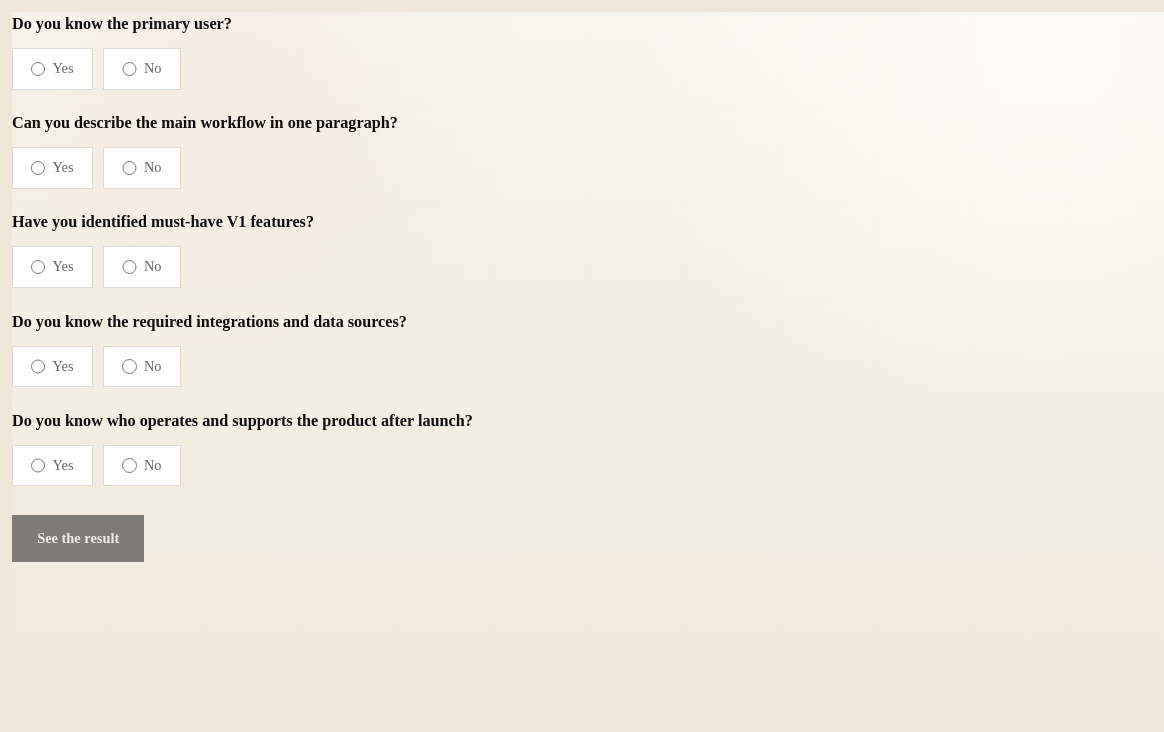
Test: ProjectReadinessTool › returns the clarify message for low scores
Step 1. Click the radio button labelled "No" below "Do you know the primary user?" → [130, 69], box left=122, top=62, right=137, bottom=76
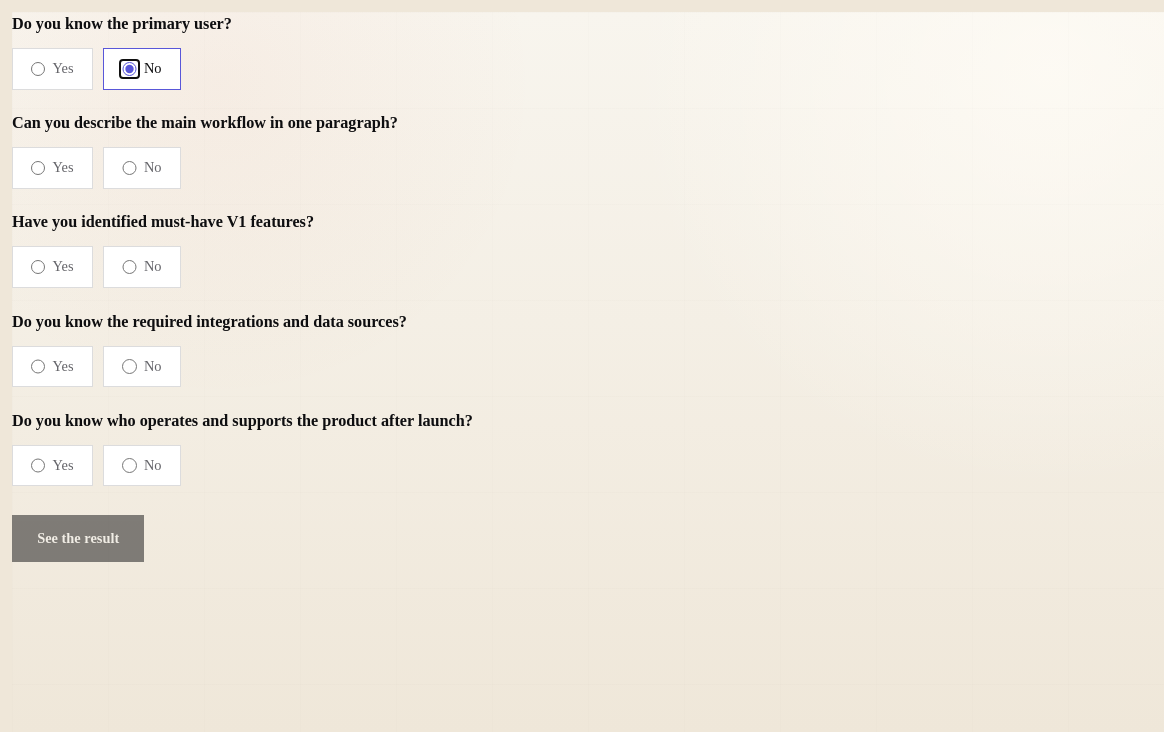
Step 2. Click the 2nd radio button labelled "No" → [130, 168], box left=122, top=161, right=137, bottom=175
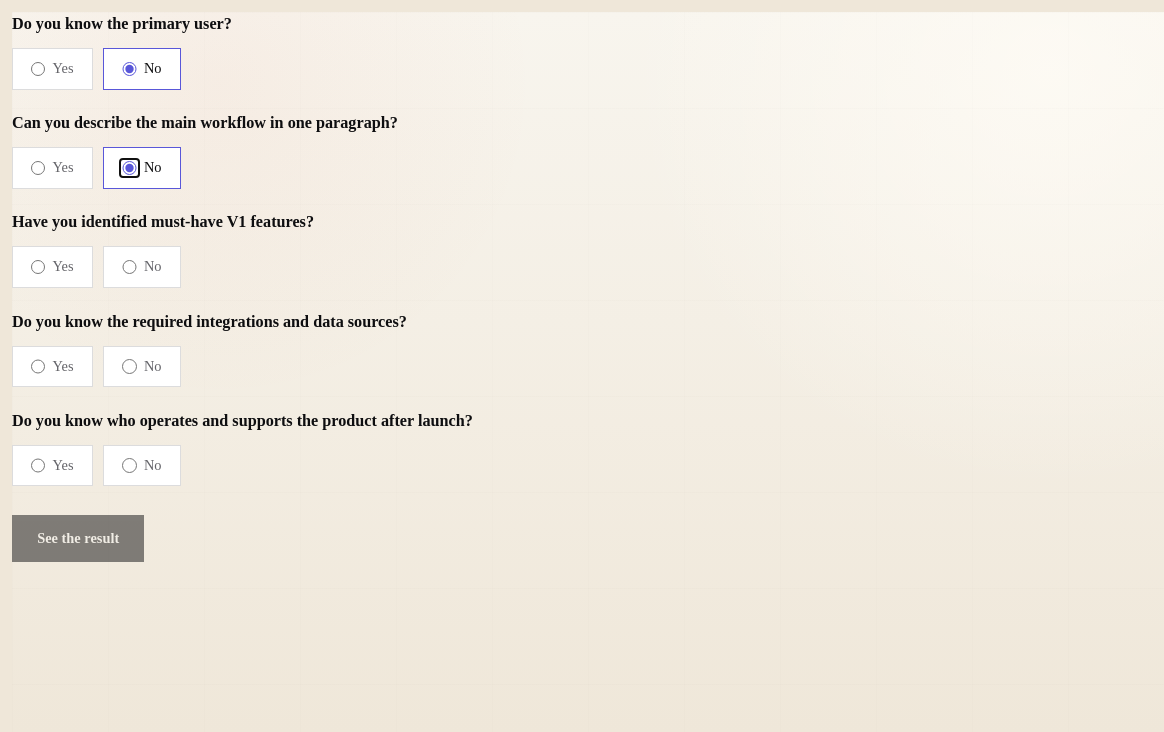
Step 3. Click the 3rd radio button labelled "No" → [130, 267], box left=122, top=260, right=137, bottom=274
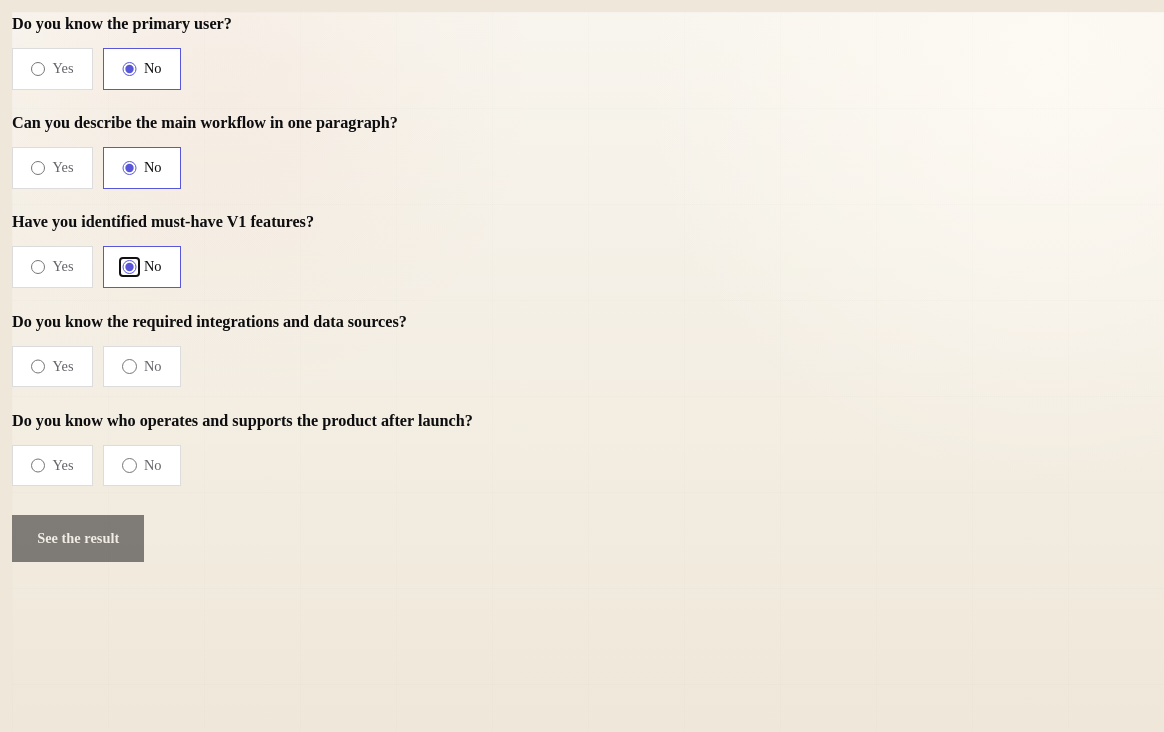
Step 4. Click the 4th radio button labelled "No" → [130, 366], box left=122, top=359, right=137, bottom=374
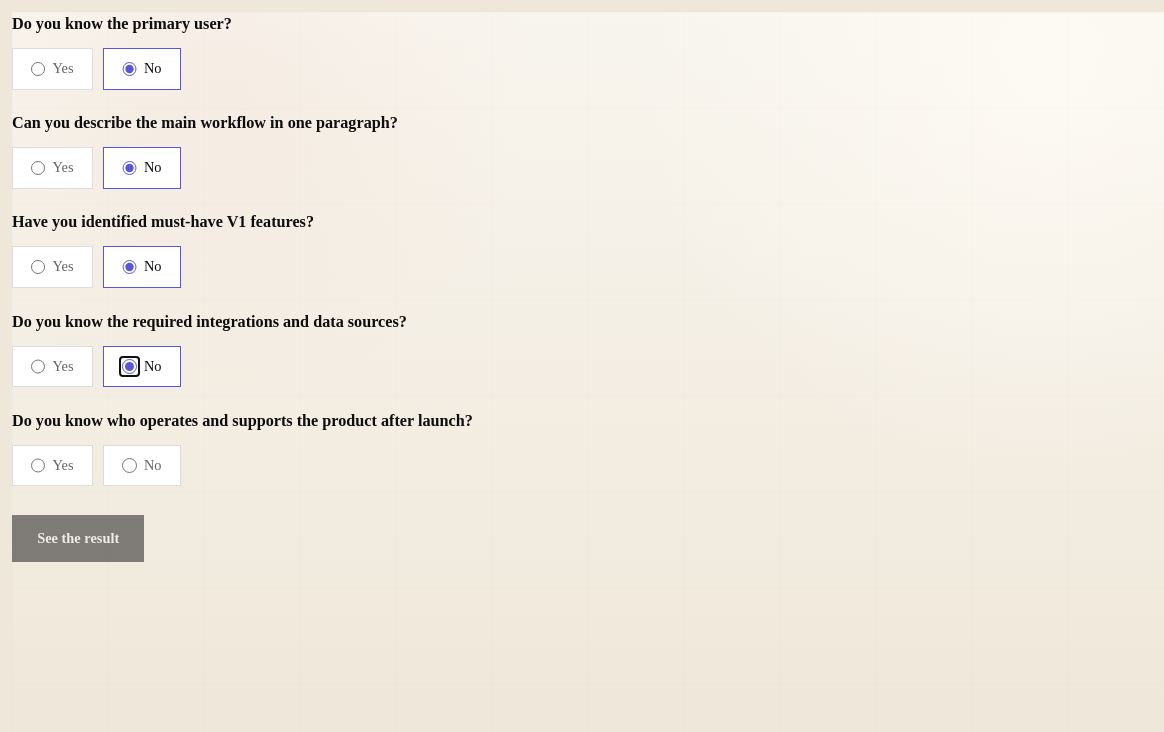
Step 5. Click the 5th radio button labelled "No" → [130, 466], box left=122, top=458, right=137, bottom=473
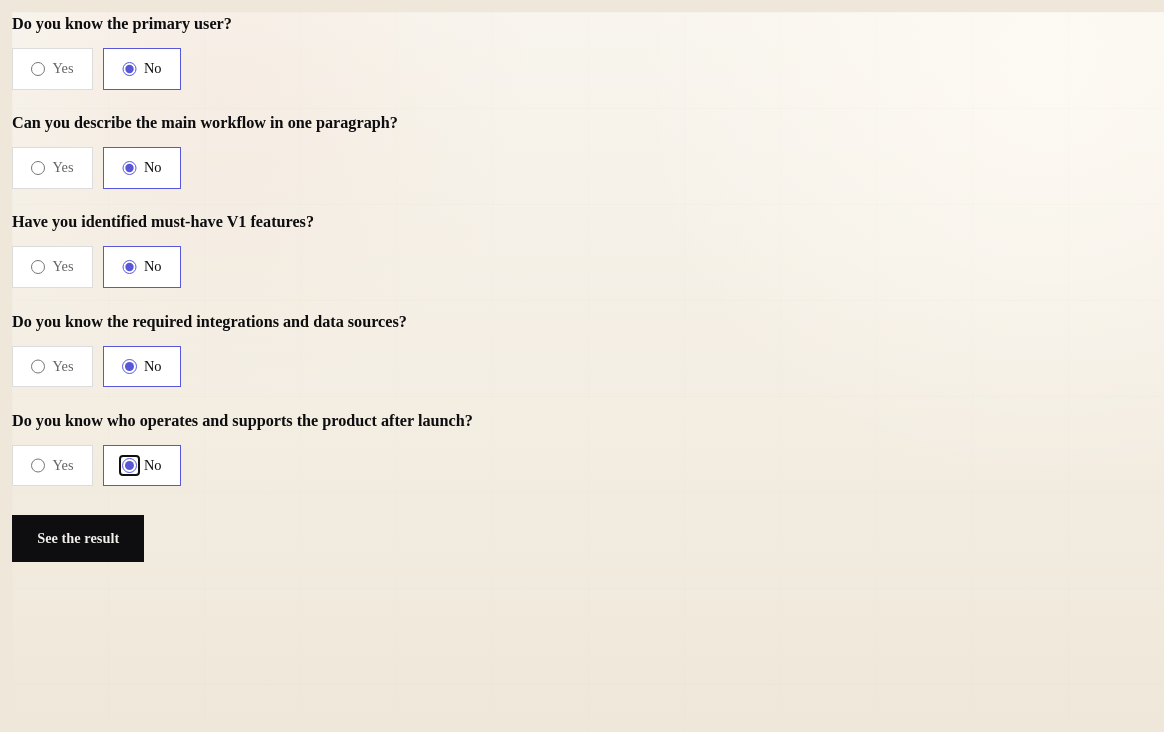
Step 6. Click the button "See the result" → [78, 538], box left=12, top=515, right=144, bottom=562
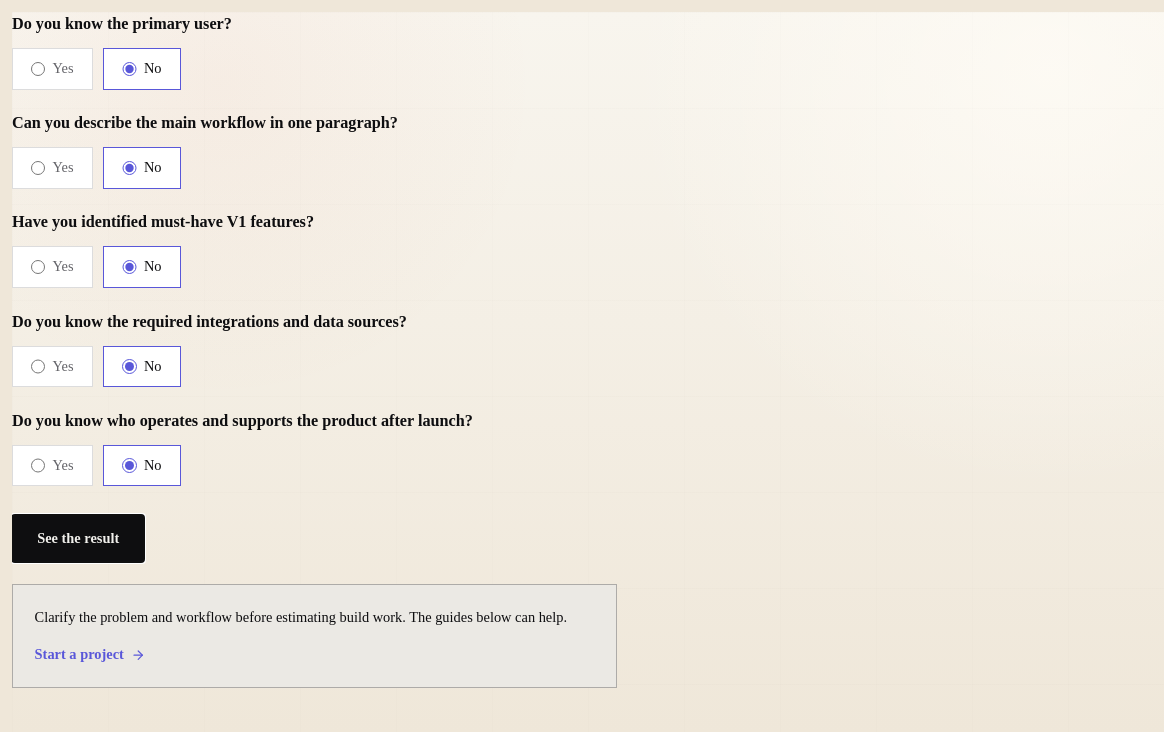
Now the message shows "Clarify", box left=35, top=609, right=567, bottom=625
